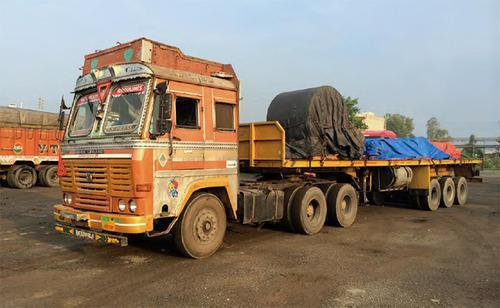truck: (62, 30, 494, 266)
